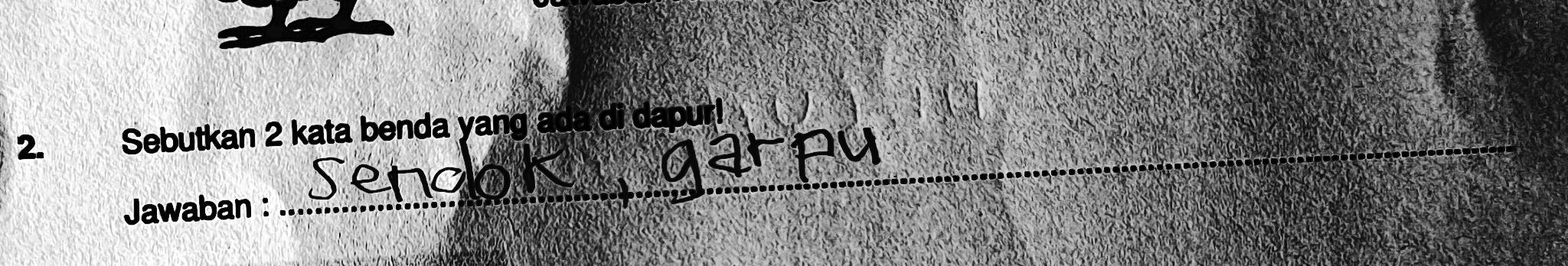jawaban: (658, 117, 895, 209), (305, 132, 577, 211)
